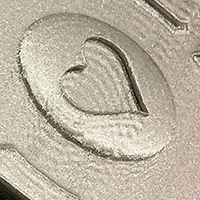3dpripples: (76, 73, 134, 112), (87, 160, 159, 185), (88, 119, 148, 145), (147, 32, 185, 60)
